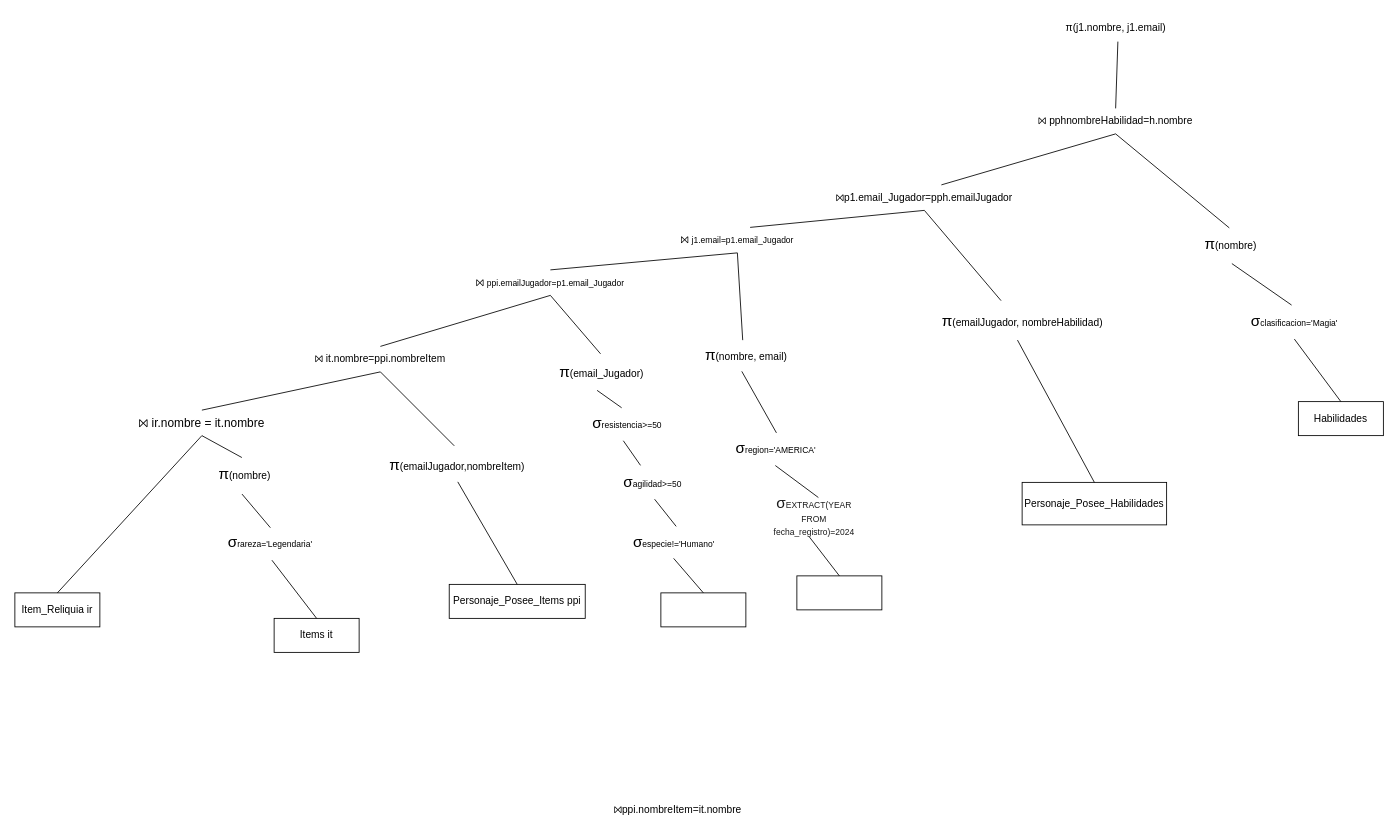
Some shapes in this 1398 by 836 pixel diagram are drawn without their labels. Here are the shapes that lost their labels. From the top down, the centre of each, then its label:
the point at 703,609: Personaje p1
the point at 839,592: Jugador j1
